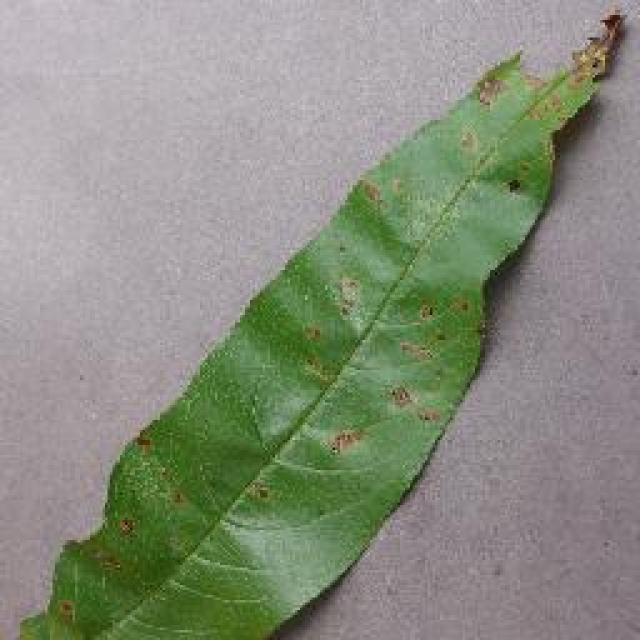Peach_Bacterial_Spot: (314, 25, 554, 457)
